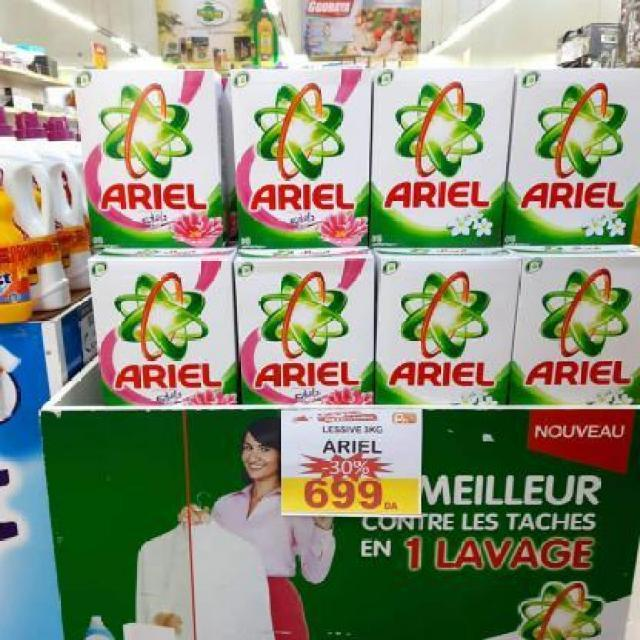Detergent: (76, 66, 230, 246), (228, 69, 370, 247), (370, 65, 508, 247), (511, 68, 640, 246), (238, 248, 375, 406), (101, 251, 237, 407), (379, 248, 510, 406), (516, 245, 639, 403)
